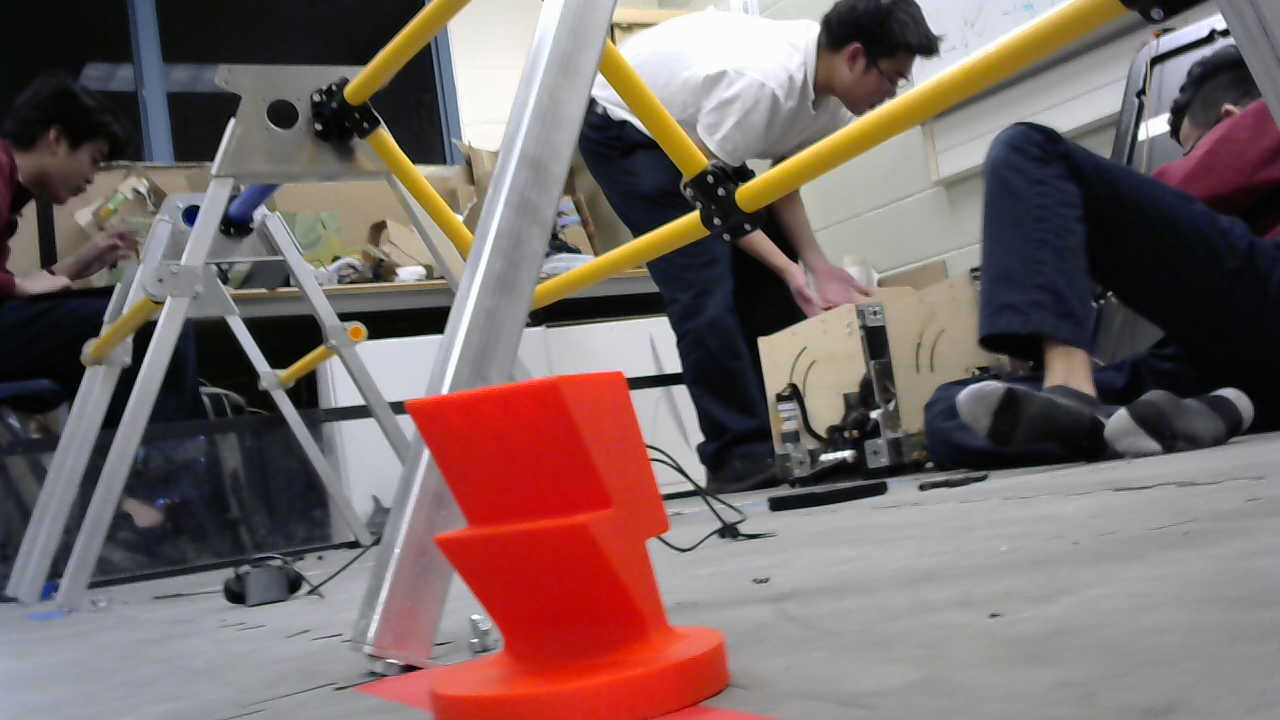redobject: (401, 368, 738, 720)
